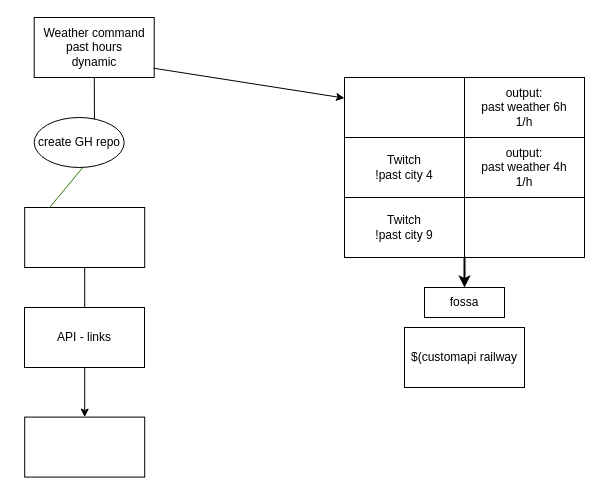
Image size: 602x495. Some labels were removed from this diagram. Here are the shapes that lost their labels. From the top down, the centre of each, then its label:
the point at 404,107: Twitch !past city 6
the point at 84,237: implement railway
the point at 524,227: output: past weather 9h 1/h
